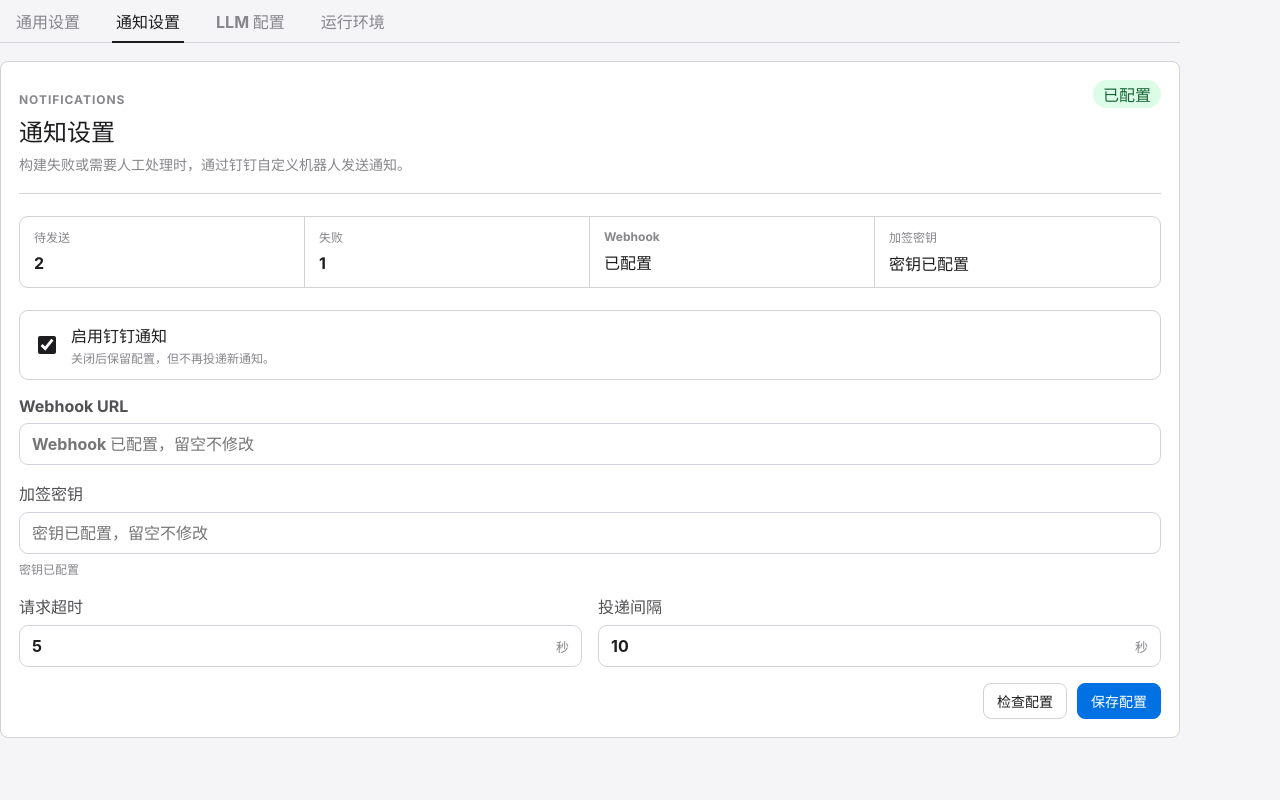
Test case: SettingsPage › saves notification settings and checks DingTalk without exposing secrets
Expected: the heading "通知设置" is shown, [19,118,115,147]
Expected: the 1st text "密钥已配置" is shown, [889,254,969,274]
Step 1. Replace the text in the number field labelled "请求超时" with "8" → (288, 646), box [20,626,556,666]
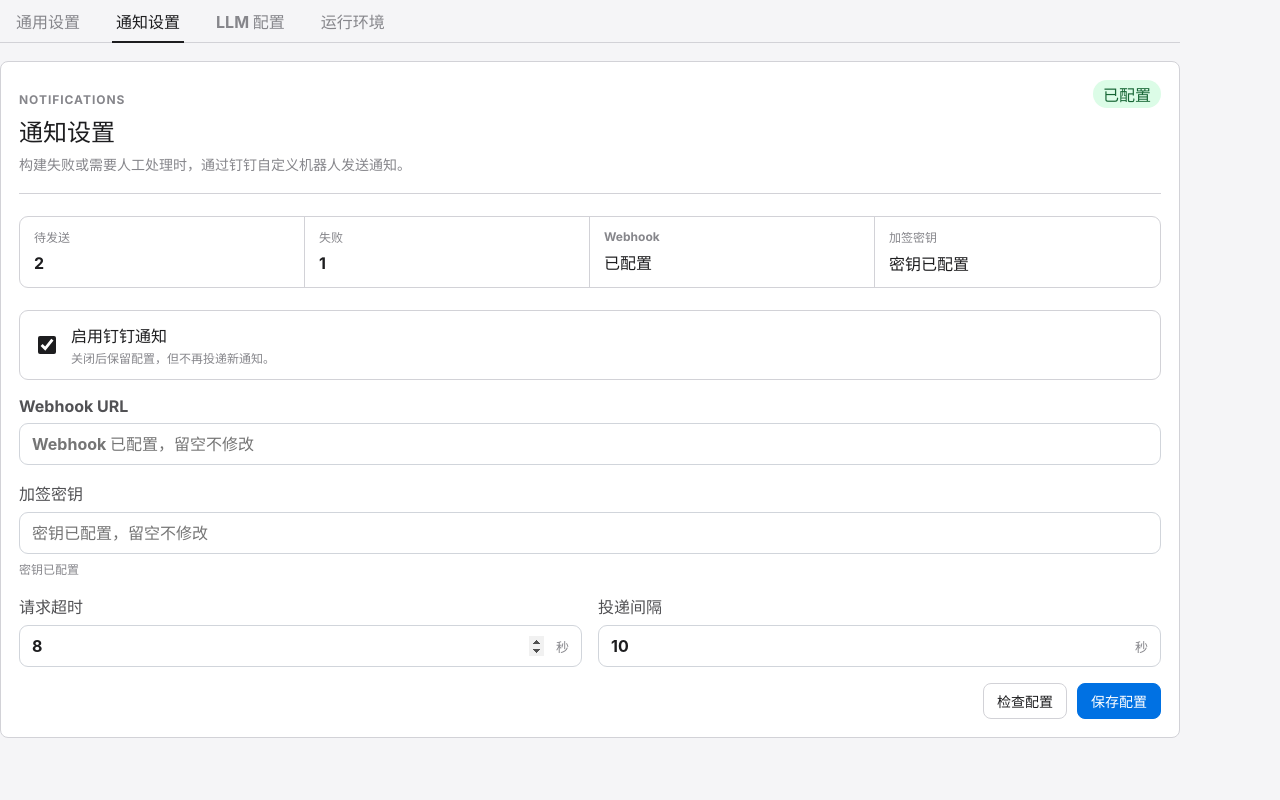
Step 2. Click the button "保存配置" → (1119, 701), box [1077,683,1161,719]
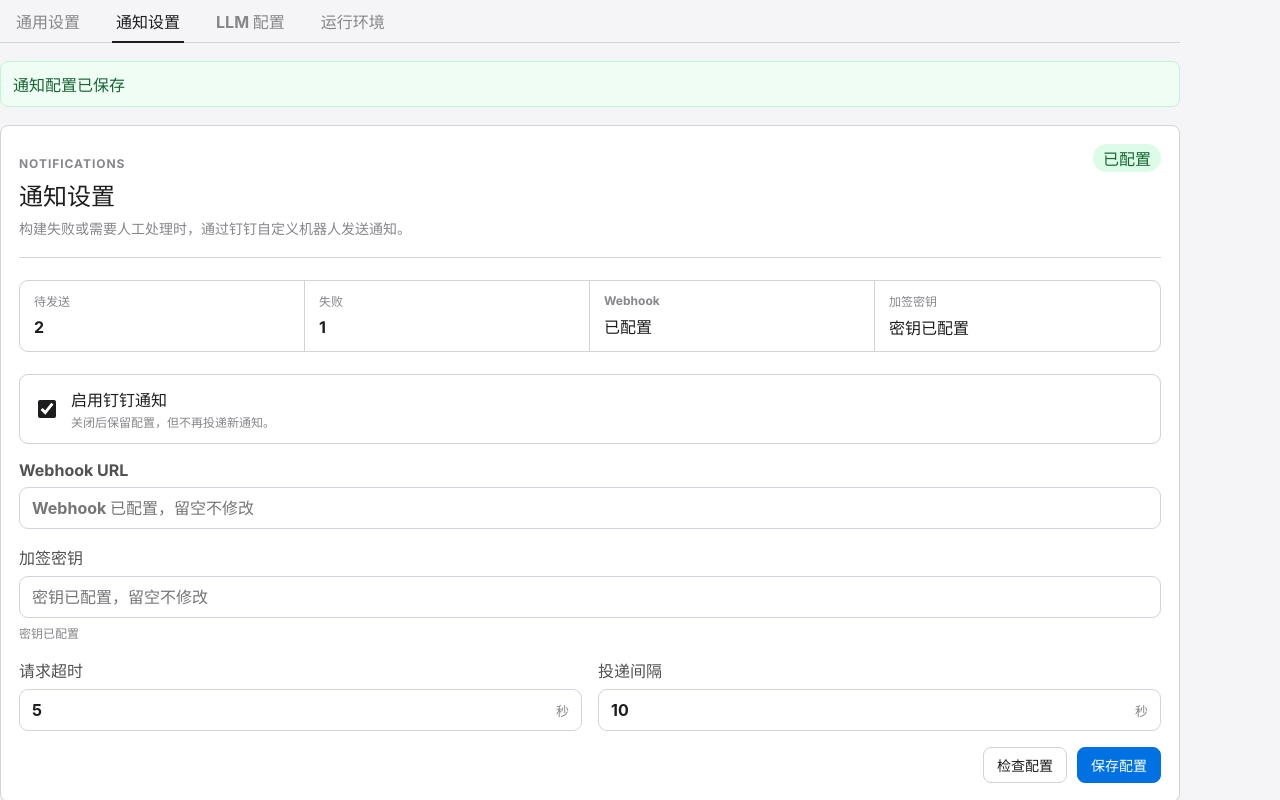
Expected: the text "通知配置已保存" is shown, [0,61,1180,107]
Step 3. Click the button "检查配置" → (1025, 765), box [983,747,1067,783]
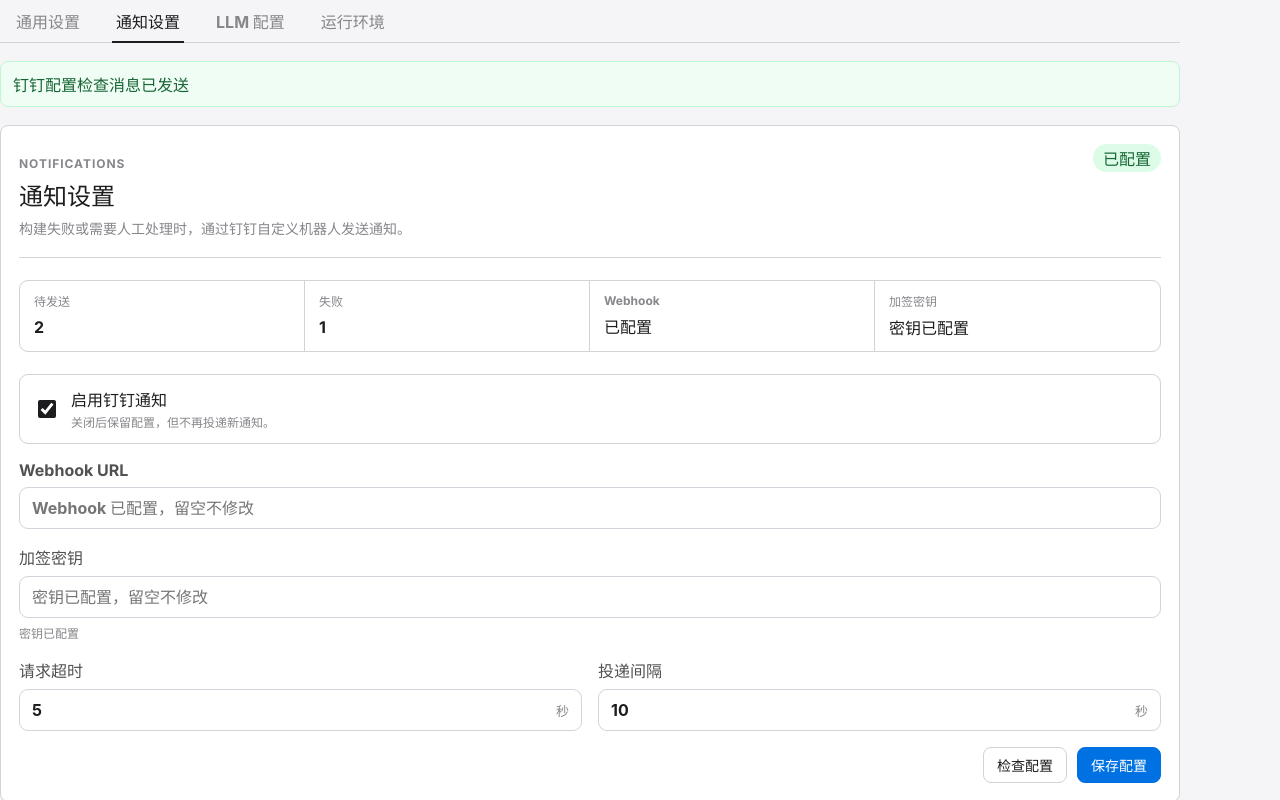
Expected: the text "钉钉配置检查消息已发送" is shown, [0,61,1180,107]
